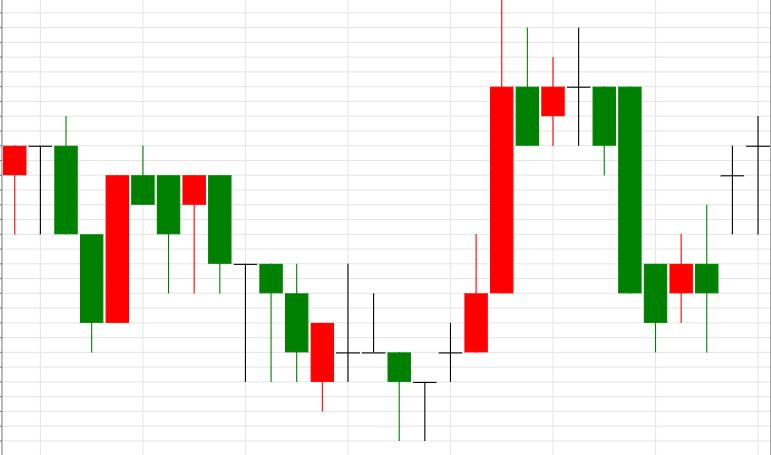hammer_rise: (209, 175, 411, 441)
